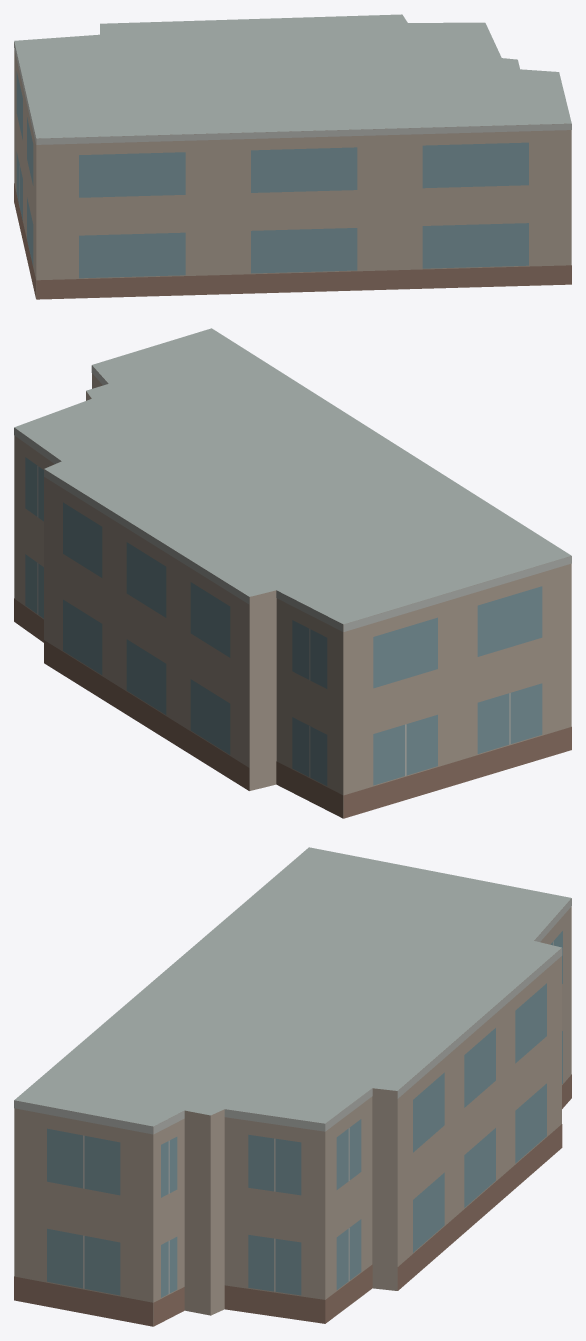
File: survey-upis-32716471.glb
3 views of the same model, one above another, from view 1: azimuth 30°, elevation 25°; view 2: azimuth 150°, elevation 25°; view 3: azimuth 270°, elevation 25° (orthographic). The views are drawn at different scales.
Parts seen in each view (by area): view 1: survey-upis-32716471.tmp; view 2: survey-upis-32716471.tmp; view 3: survey-upis-32716471.tmp.
Part boxes in pixels (left/top/right/bottom): survey-upis-32716471.tmp: left=14, top=14, right=571, bottom=299; survey-upis-32716471.tmp: left=14, top=328, right=571, bottom=818; survey-upis-32716471.tmp: left=14, top=847, right=571, bottom=1326.
Bounding box in the file's own units: 18.27 × 6.1 × 15.41.
